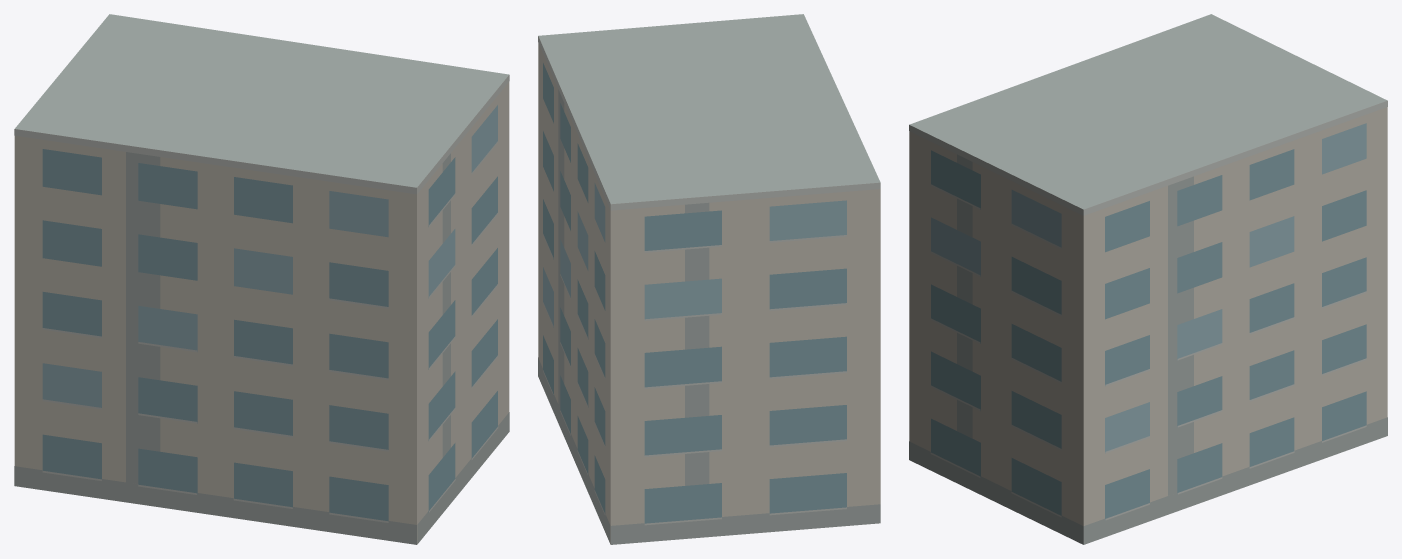
The model's file is survey-upis-33008186.glb.
3 renders of one model, left to right at view 1: azimuth 30°, elevation 25°; view 2: azimuth 150°, elevation 25°; view 3: azimuth 270°, elevation 25°, orthographic. The views are drawn at different scales.
Visible parts, largest first — view 1: survey-upis-33008186.tmp; view 2: survey-upis-33008186.tmp; view 3: survey-upis-33008186.tmp.
Part boxes in pixels (x1=…): survey-upis-33008186.tmp: x1=14, y1=14, x2=509, y2=544; survey-upis-33008186.tmp: x1=538, y1=14, x2=880, y2=544; survey-upis-33008186.tmp: x1=909, y1=14, x2=1387, y2=544.
Bounding box in the file's own units: 16.26 × 12.99 × 16.82.
